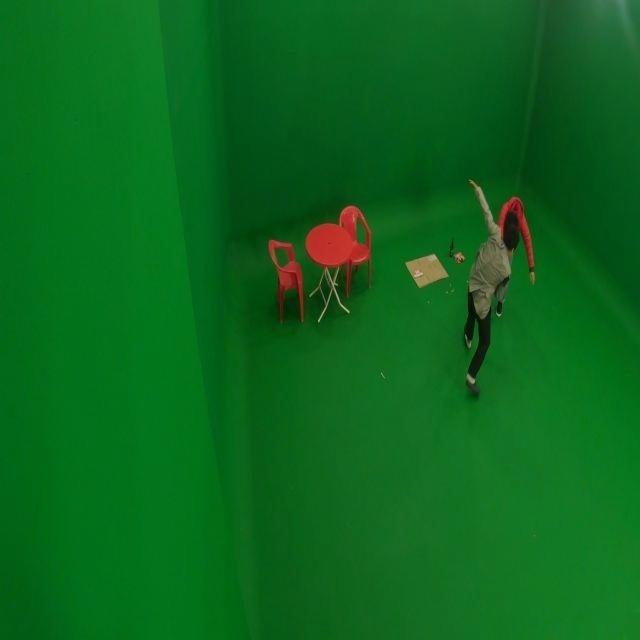fight: (430, 176, 537, 399)
